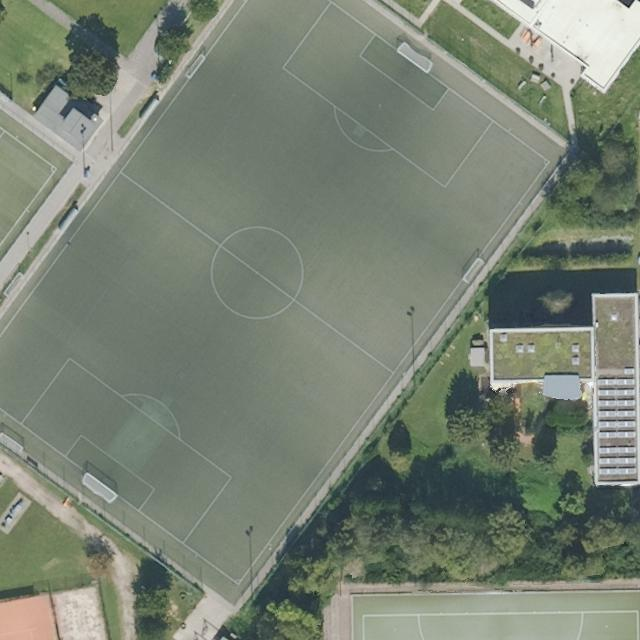PV: (594, 363, 638, 479)
